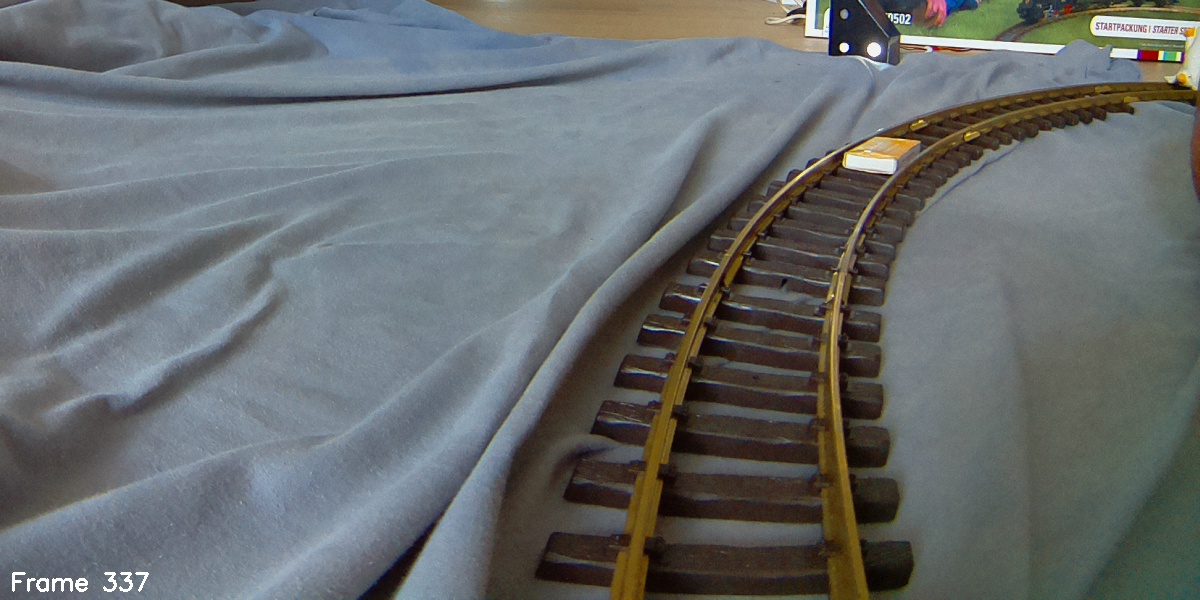Halt: (831, 1, 898, 62)
